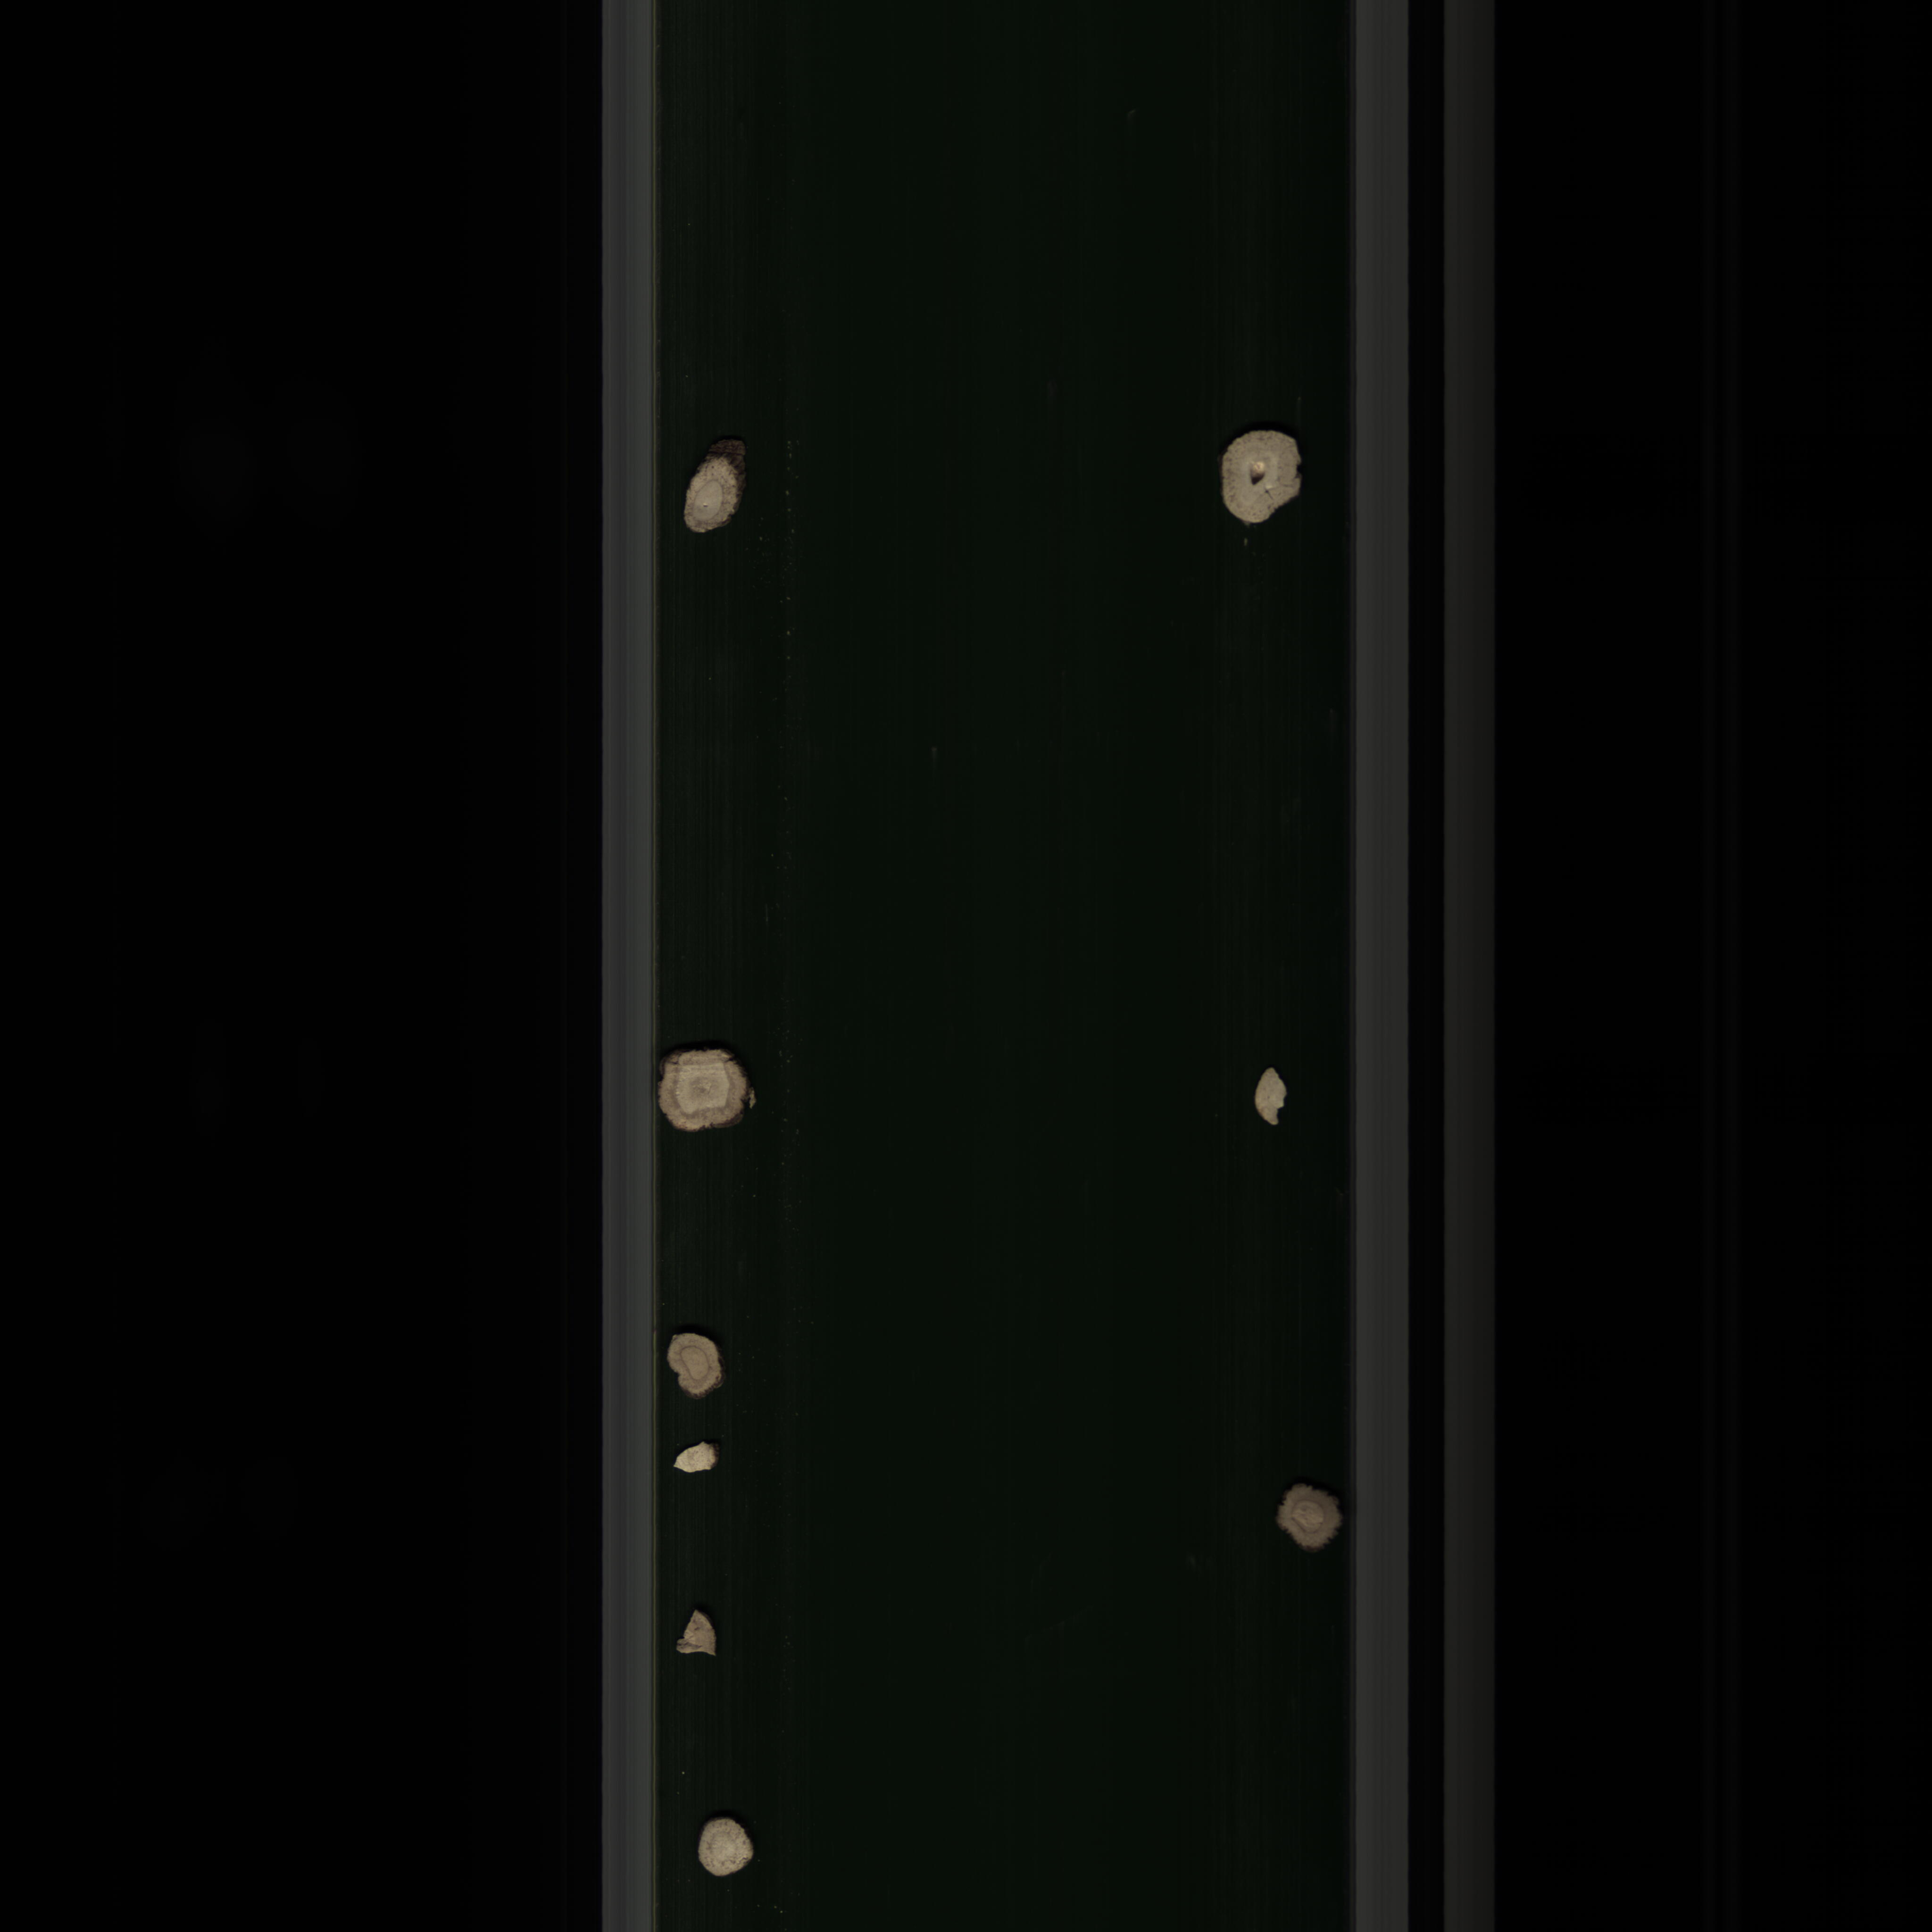bark: (679, 430, 750, 547)
debris: (1242, 1062, 1297, 1136), (671, 1608, 722, 1668), (662, 1440, 734, 1481)
hole: (1215, 428, 1311, 540)
moldy: (1269, 1479, 1353, 1557)
